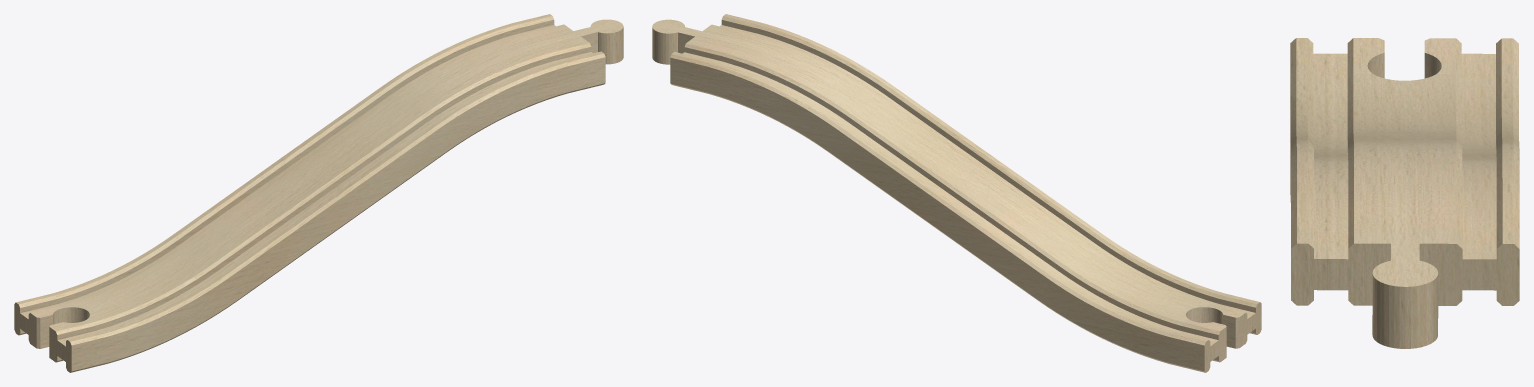
3 renders of one model, left to right at view 1: azimuth 30°, elevation 25°; view 2: azimuth 150°, elevation 25°; view 3: azimuth 270°, elevation 25°, orthographic. The views are drawn at different scales.
Parts seen in each view (by area): view 1: SketchUp; view 2: SketchUp; view 3: SketchUp.
Boxes of the visible parts, x1,y1,x2,y2 form: SketchUp: (14, 14, 623, 372); SketchUp: (652, 14, 1261, 372); SketchUp: (1290, 38, 1519, 348).
Size of the model in its own units: 9.21 by 1.58 by 2.88.
